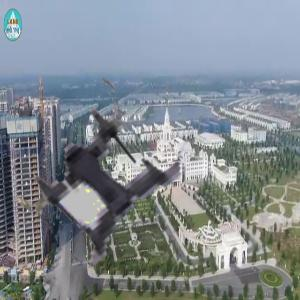drone: (10, 89, 194, 273)
